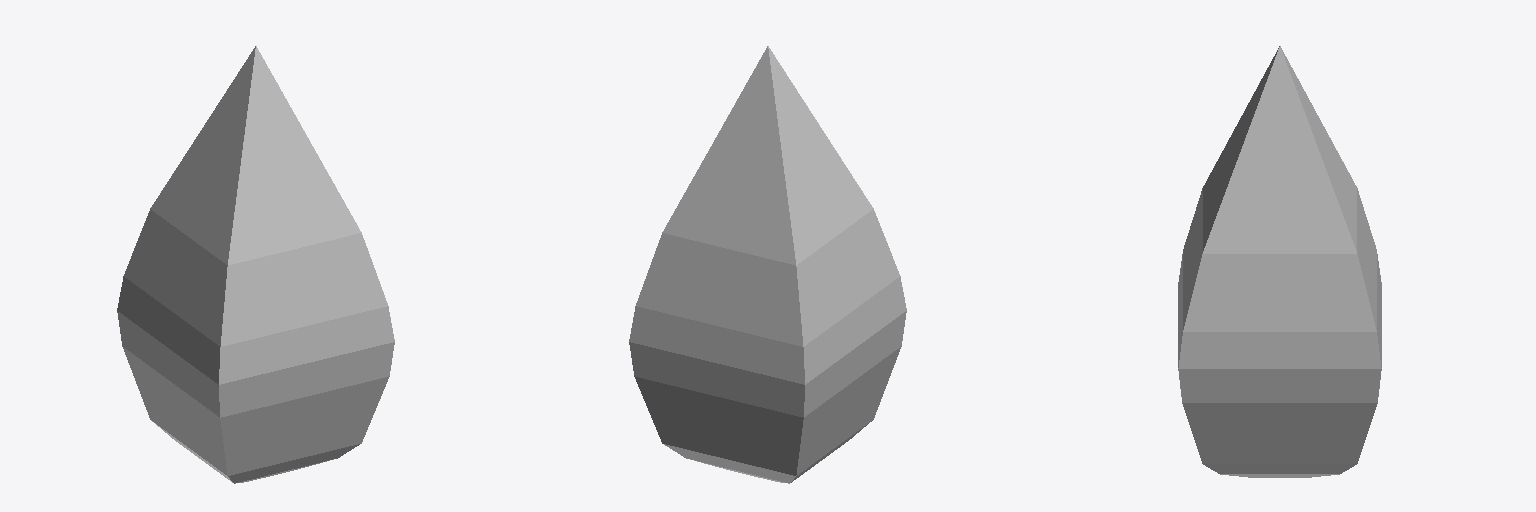
The model's file is shrub1.obj.
The picture shows the model from 3 angles: view 1: azimuth 30°, elevation 25°; view 2: azimuth 150°, elevation 25°; view 3: azimuth 270°, elevation 25°; orthographic projection.
Visible parts, largest first — view 1: Cube.013_Cube.008; view 2: Cube.013_Cube.008; view 3: Cube.013_Cube.008.
Part boxes in pixels (x1,y1,x2,y2): Cube.013_Cube.008: (117, 46, 394, 483); Cube.013_Cube.008: (629, 46, 906, 483); Cube.013_Cube.008: (1178, 46, 1381, 477).
Size of the model in its own units: 0.9192 by 2.1 by 0.9192.